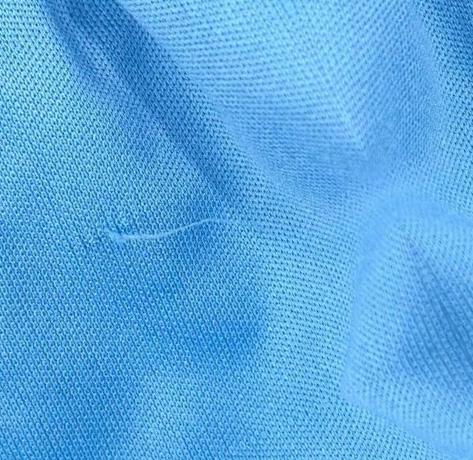snag: (88, 215, 265, 258)
